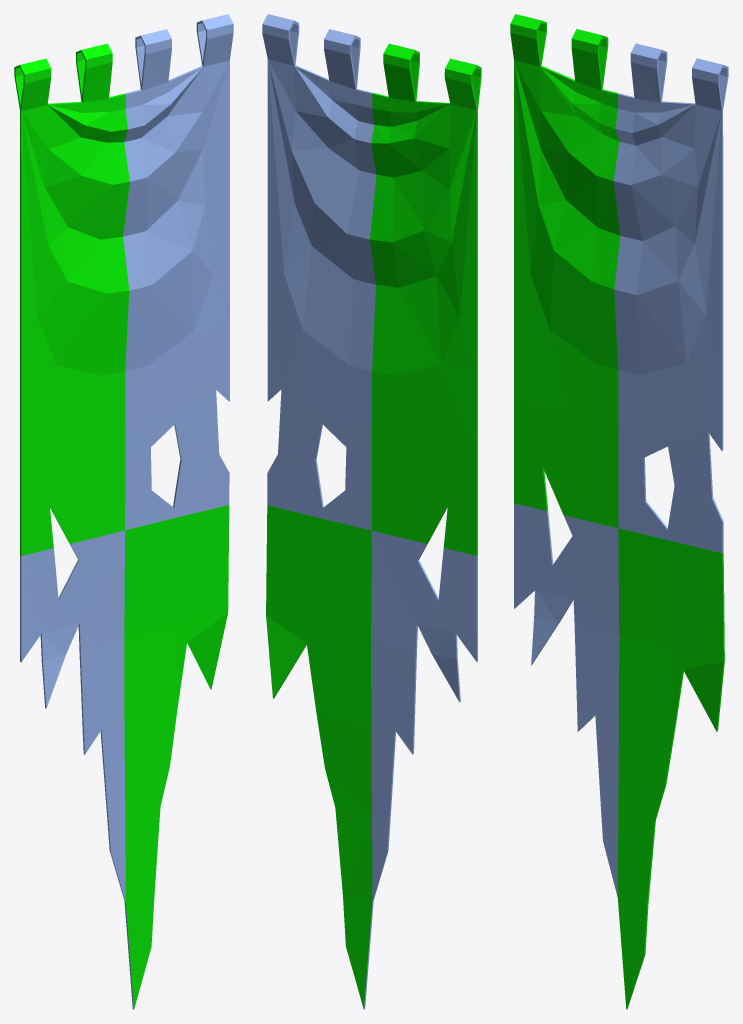
Rendered from SM_Flag_Banner_Big_E_Broken_Fantasy.fbx.
3 views of the same model, side by side, from view 1: azimuth 30°, elevation 25°; view 2: azimuth 150°, elevation 25°; view 3: azimuth 330°, elevation 25° (orthographic).
Parts seen in each view (by area): view 1: flag-banner-big-e-broken-fantasy; view 2: flag-banner-big-e-broken-fantasy; view 3: flag-banner-big-e-broken-fantasy.
Boxes of the visible parts, left/top/right/bottom form: flag-banner-big-e-broken-fantasy: left=14, top=14, right=233, bottom=1009; flag-banner-big-e-broken-fantasy: left=262, top=14, right=481, bottom=1009; flag-banner-big-e-broken-fantasy: left=510, top=14, right=728, bottom=1009.
Bounding box in the file's own units: 0.9568 × 4.25 × 0.0973.
